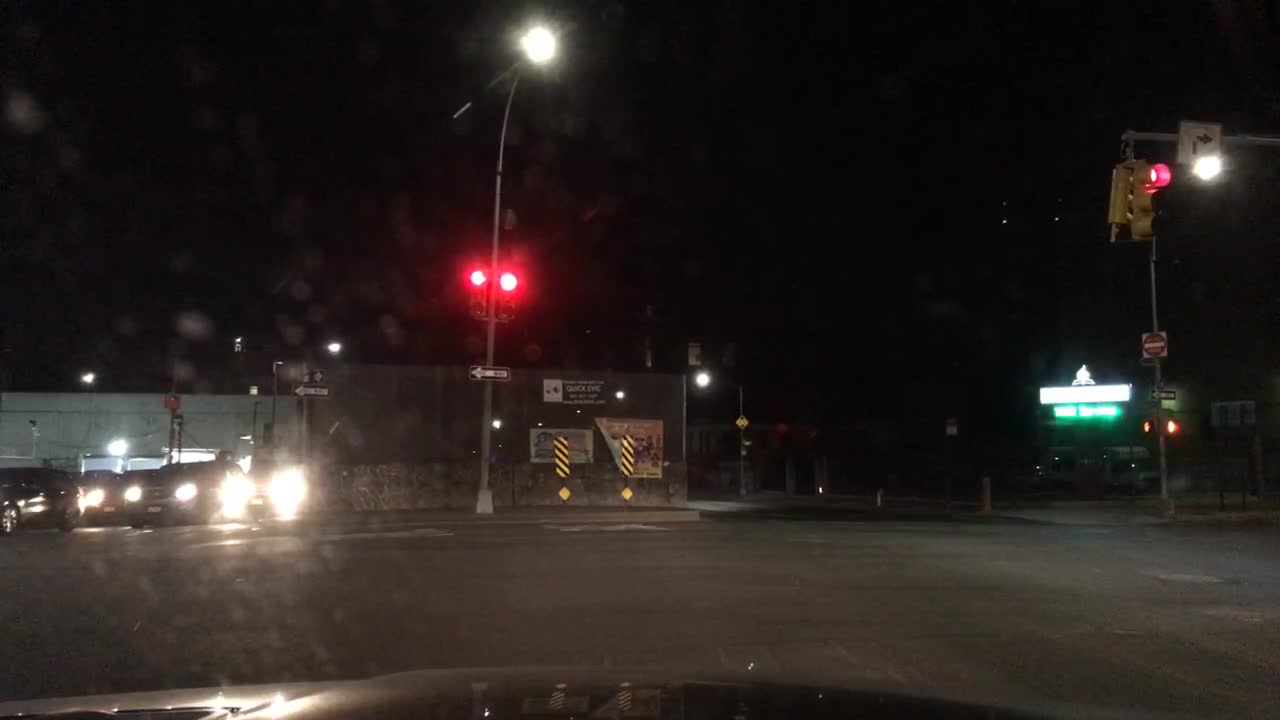car: (120, 465, 216, 528), (0, 465, 84, 536), (213, 464, 257, 519), (77, 464, 117, 523), (266, 462, 311, 512), (119, 464, 164, 490)
traffic light: (1128, 162, 1171, 237), (1109, 163, 1132, 224), (499, 263, 523, 317), (467, 263, 485, 316), (1138, 417, 1155, 435), (1164, 416, 1178, 435)
traffic sign: (1178, 119, 1225, 163), (293, 381, 332, 398), (1141, 330, 1169, 353), (468, 365, 513, 379), (1153, 388, 1178, 398), (1138, 357, 1165, 366), (734, 414, 749, 430)
truck: (1042, 444, 1161, 495)
